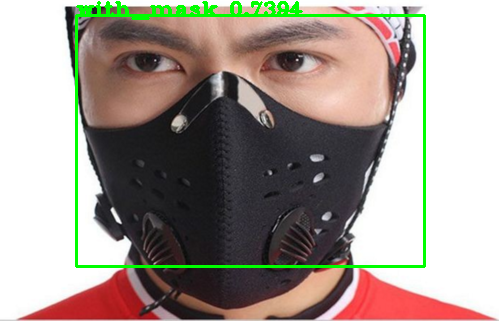with_mask: (61, 1, 415, 283)
